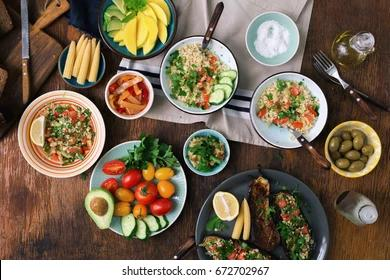Braised Crucian Carp: (195, 168, 329, 260), (89, 140, 186, 238), (16, 89, 104, 177), (159, 36, 238, 115), (250, 71, 327, 148), (97, 0, 176, 60)
